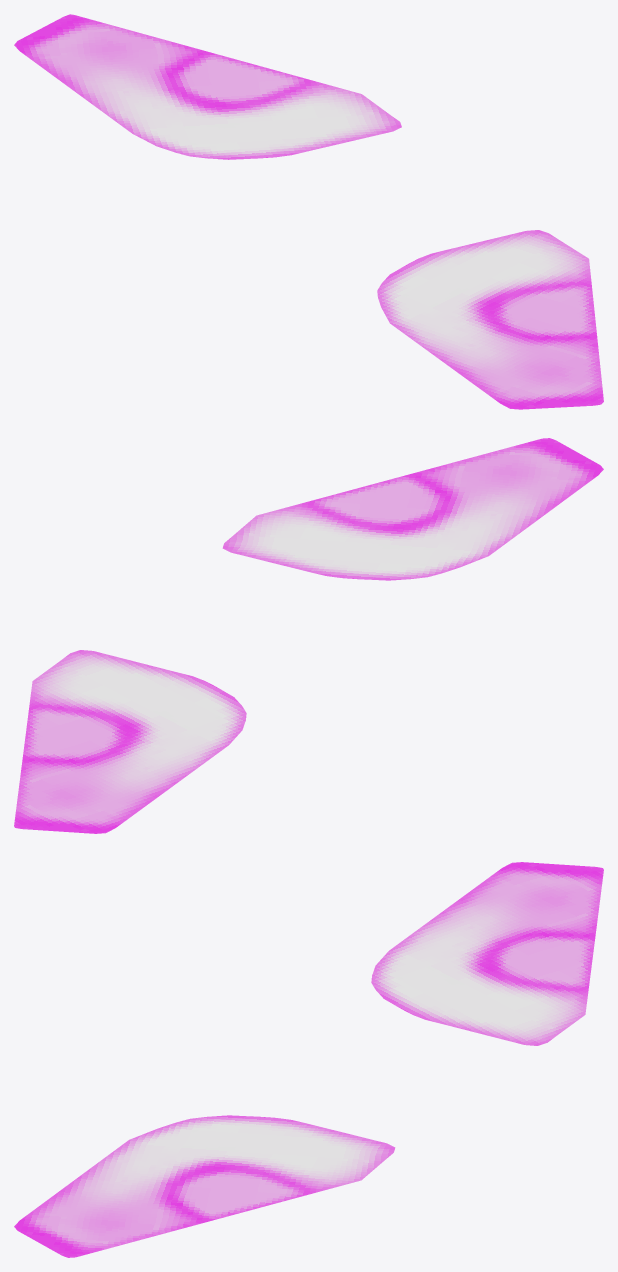
The model's file is pref_sm_beach_techobstacle03_water_lv2.fbx.
3 views of the same model, one above another, from view 1: azimuth 30°, elevation 25°; view 2: azimuth 150°, elevation 25°; view 3: azimuth 330°, elevation 25° (orthographic).
Parts seen in each view (by area): view 1: pref_sm_beach_techobstacle03_water_lv2; view 2: pref_sm_beach_techobstacle03_water_lv2; view 3: pref_sm_beach_techobstacle03_water_lv2.
Boxes of the visible parts, bbox=[...] form: pref_sm_beach_techobstacle03_water_lv2: bbox=[14, 14, 603, 409]; pref_sm_beach_techobstacle03_water_lv2: bbox=[14, 438, 603, 833]; pref_sm_beach_techobstacle03_water_lv2: bbox=[14, 862, 603, 1257].
Bounding box in the file's own units: 8.51 × 1.59e-06 × 36.41.
